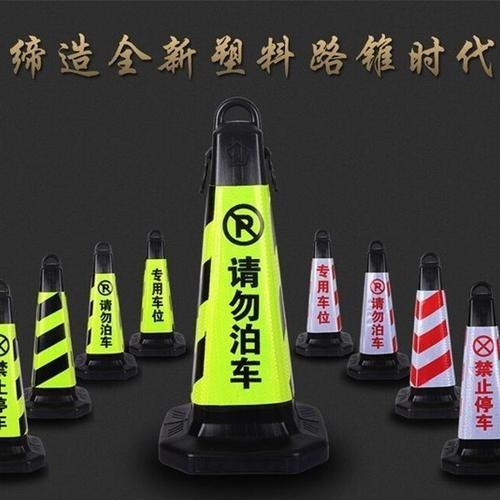cone_barrel: (158, 102, 317, 479), (396, 251, 465, 423), (20, 253, 86, 422), (447, 282, 499, 471), (75, 246, 135, 378), (350, 241, 404, 377), (293, 233, 351, 356), (130, 234, 184, 354)
